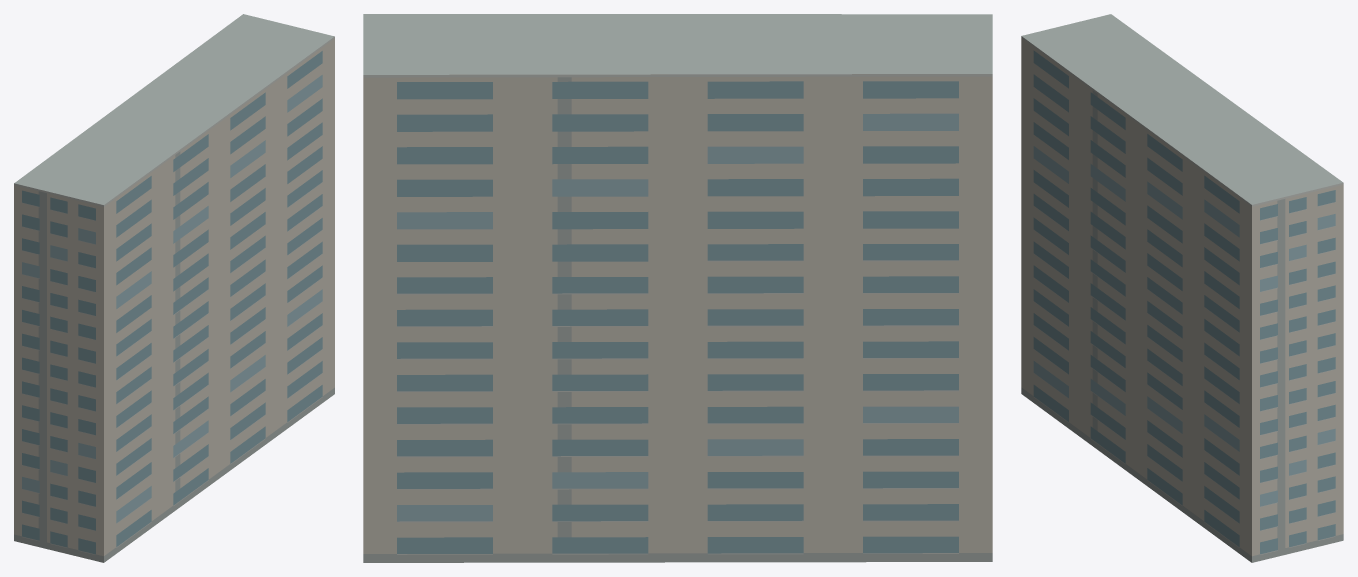
The model's file is residential-c95e3822-f467-498a-a450-f46119688e89.glb.
3 views of the same model, side by side, from view 1: azimuth 30°, elevation 25°; view 2: azimuth 150°, elevation 25°; view 3: azimuth 270°, elevation 25° (orthographic). The views are drawn at different scales.
Parts seen in each view (by area): view 1: residential-c95e3822-f467-498a-a450-f46119688e89.tmp; view 2: residential-c95e3822-f467-498a-a450-f46119688e89.tmp; view 3: residential-c95e3822-f467-498a-a450-f46119688e89.tmp.
Part boxes in pixels (x1,y1,x2,y2): residential-c95e3822-f467-498a-a450-f46119688e89.tmp: [14, 14, 334, 562]; residential-c95e3822-f467-498a-a450-f46119688e89.tmp: [363, 14, 992, 562]; residential-c95e3822-f467-498a-a450-f46119688e89.tmp: [1021, 14, 1343, 562].
Size of the model in its own units: 52.34 by 45.75 by 37.34.
